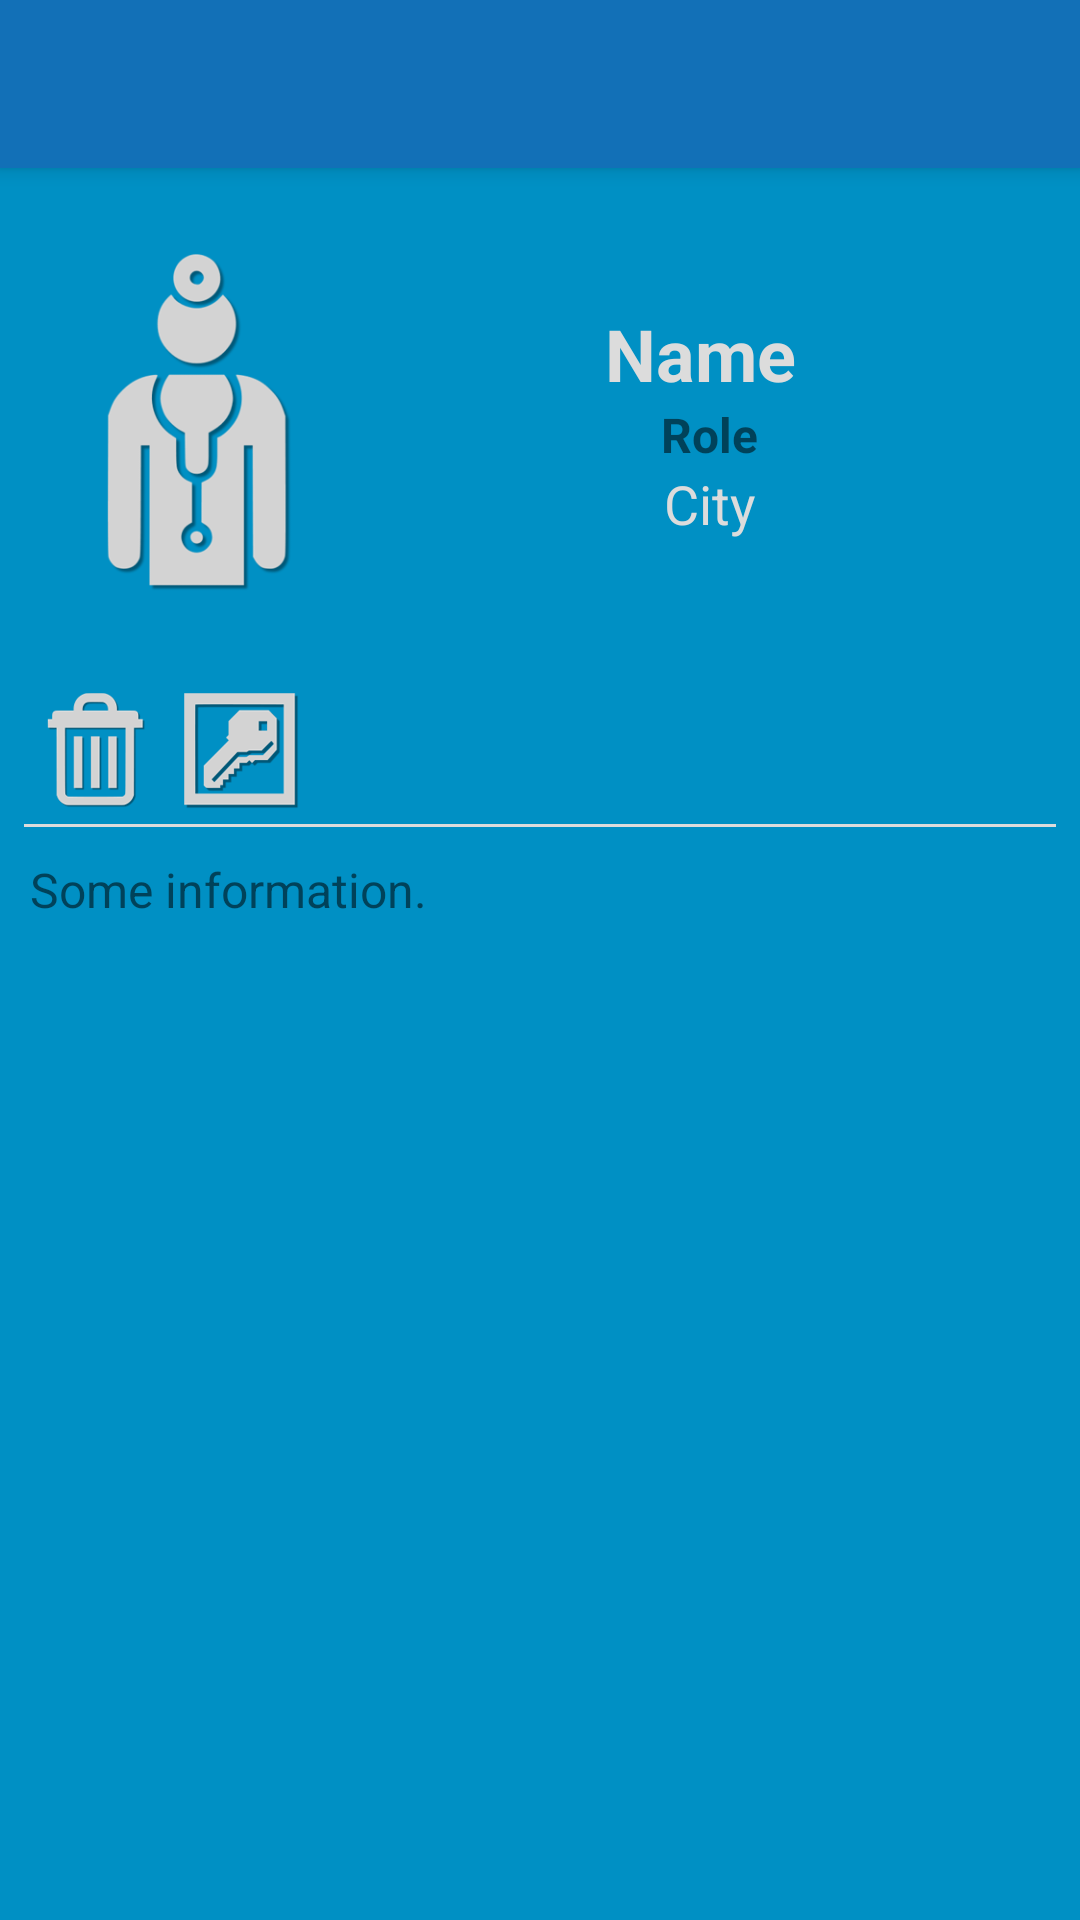

Named icons in this screenshot (1080px×1920px) and their bounding boxes, (x1, y1, x2, y2):
Doctors photo: (107, 254, 289, 589)
